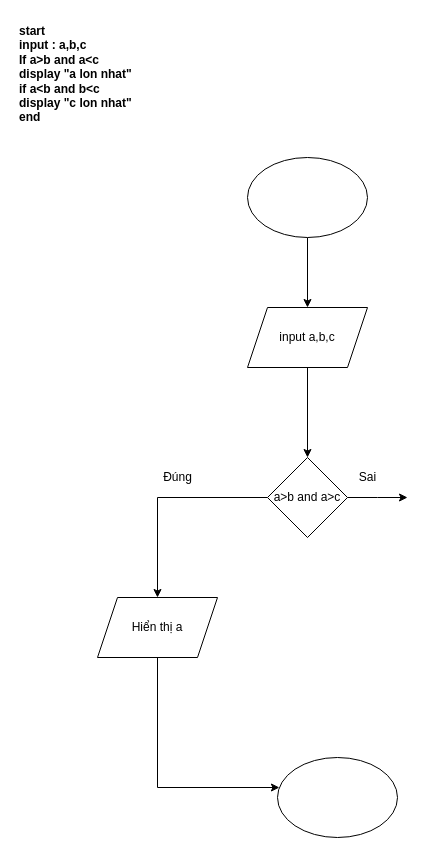
The diagram is 433 pixels wide and 855 high, and some of its shapes have lost their labels. Each missing label, with the centre of its shape:
"End" belongs at [337,797].
"Start" belongs at [307,197].
